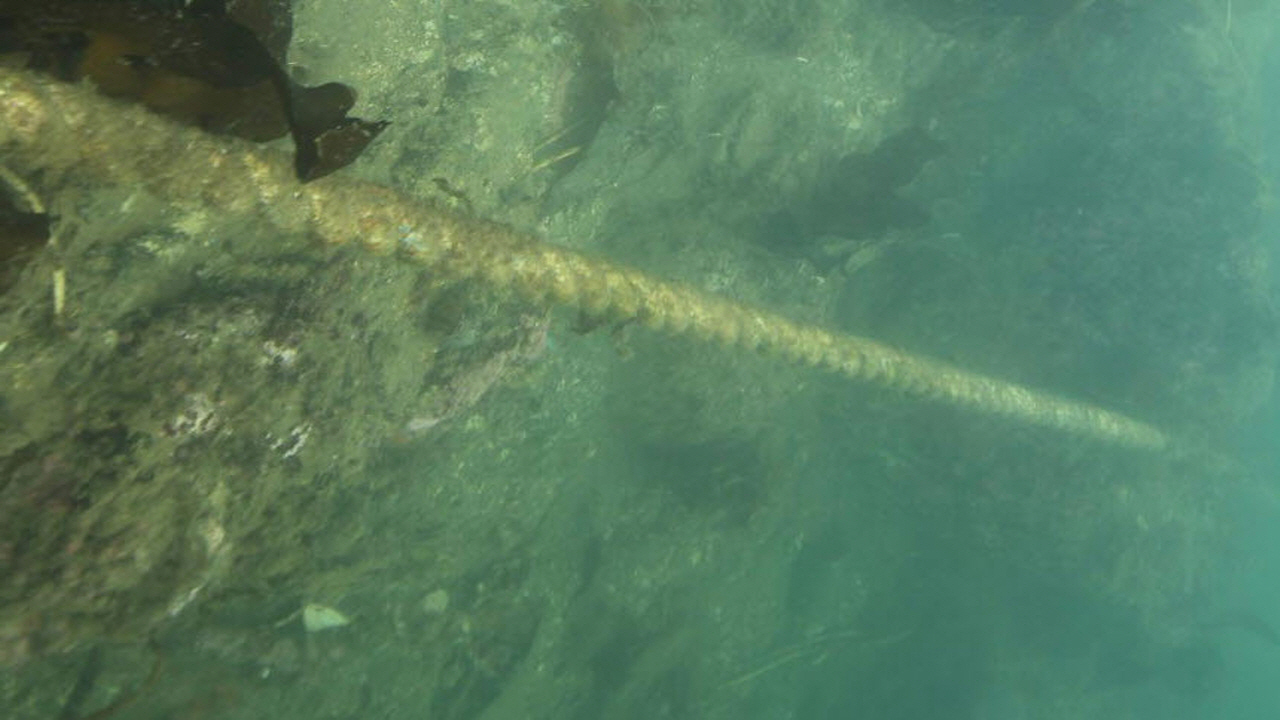rope: (1, 58, 1169, 459)
